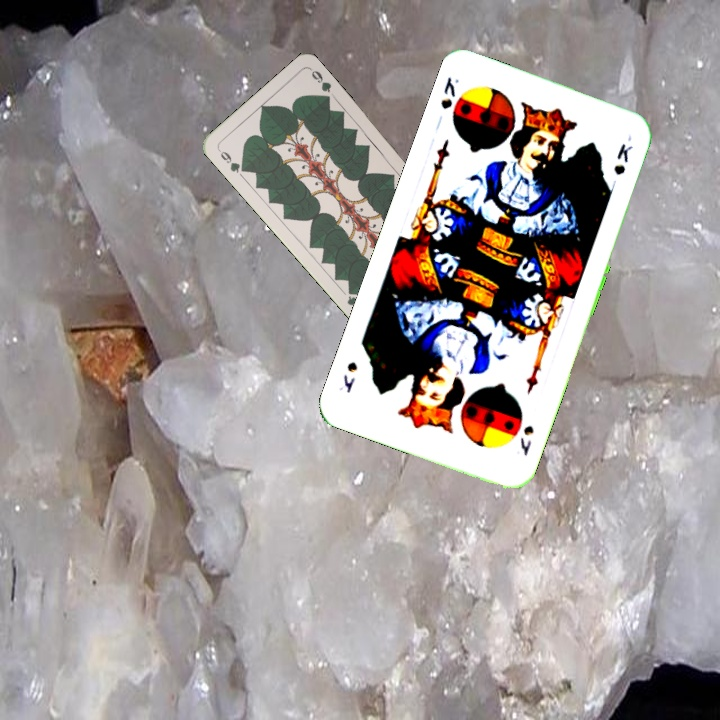G9: (214, 145, 249, 175)
SK: (434, 72, 462, 129), (516, 421, 537, 459)
